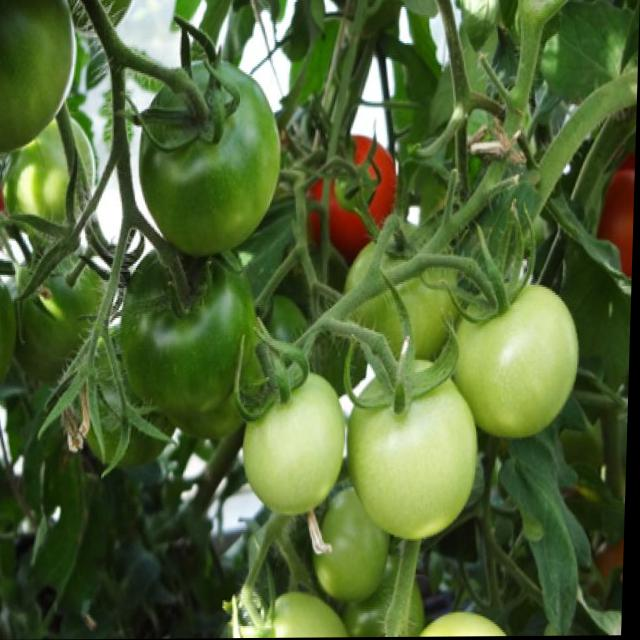yesil: (241, 365, 533, 557), (120, 32, 299, 271), (102, 268, 280, 409), (446, 259, 582, 439)
